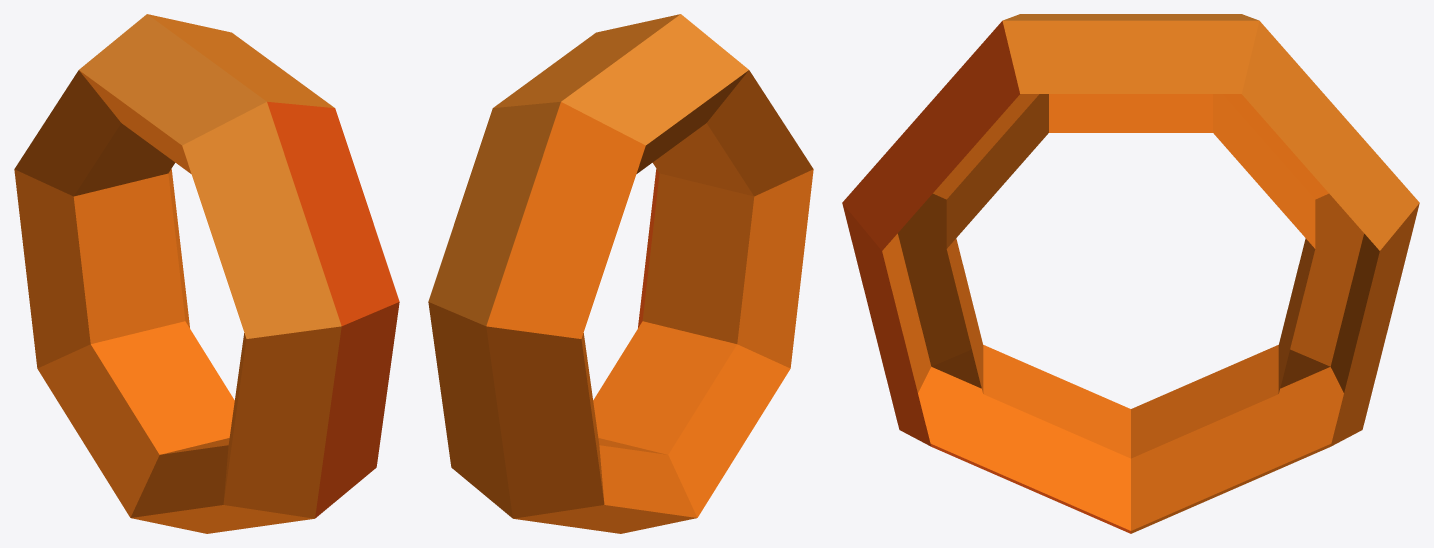
The model's file is sea block tyre.fbx.
3 views of the same model, side by side, from view 1: azimuth 30°, elevation 25°; view 2: azimuth 150°, elevation 25°; view 3: azimuth 270°, elevation 25° (orthographic). The views are drawn at different scales.
Parts seen in each view (by area): view 1: Cube.043; view 2: Cube.043; view 3: Cube.043.
Part boxes in pixels (bbox=[...]): Cube.043: bbox=[14, 14, 399, 533]; Cube.043: bbox=[428, 14, 813, 533]; Cube.043: bbox=[842, 14, 1419, 533].
Bounding box in the file's own units: 267 × 792 × 813.
